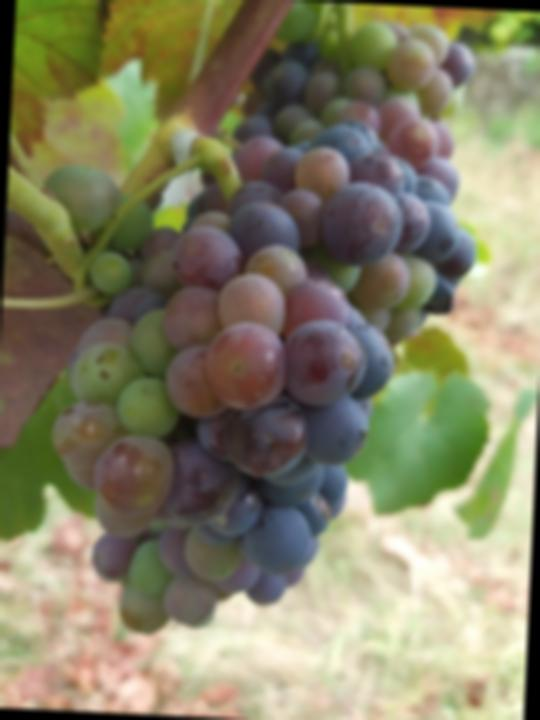grape: (39, 110, 485, 653)
